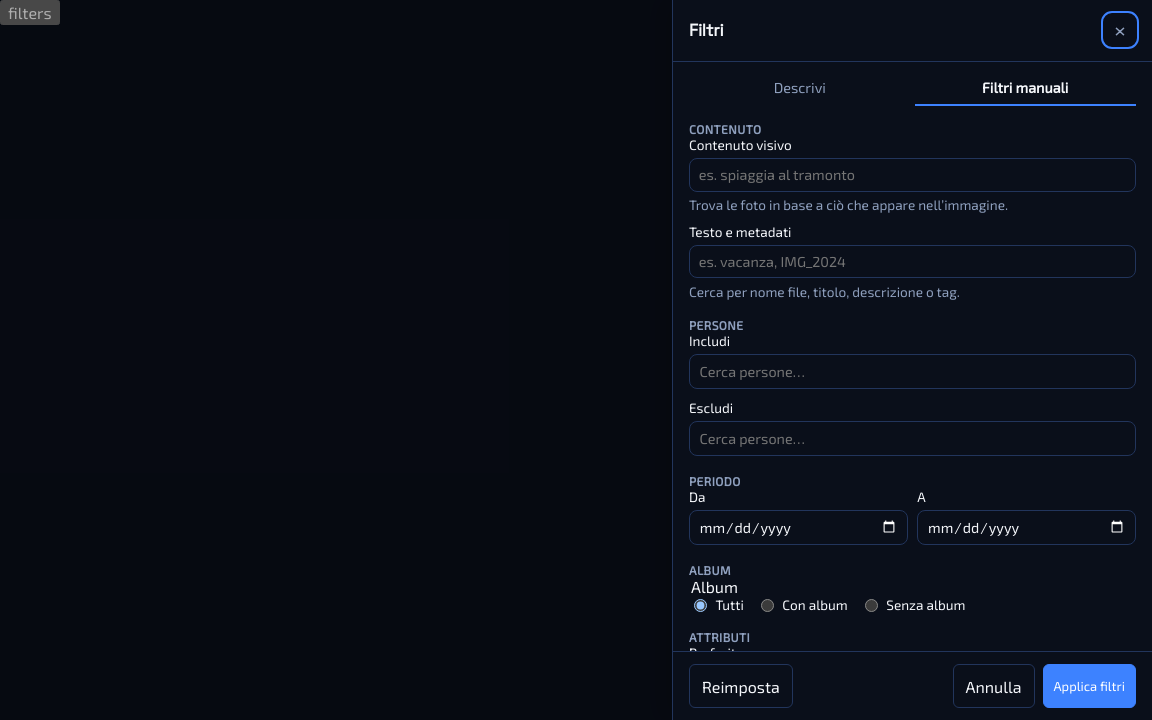
GalleryFilterSheet › the Describe parser populates the same draft fields
This screenshot has width=1152, height=720.
Expected: the dialog with test id "gallery-filter-sheet" is shown, [672, 0, 1151, 719]
Click the tab with test id "ws-tab-describe" at x=800, y=89, box [689, 71, 910, 106]
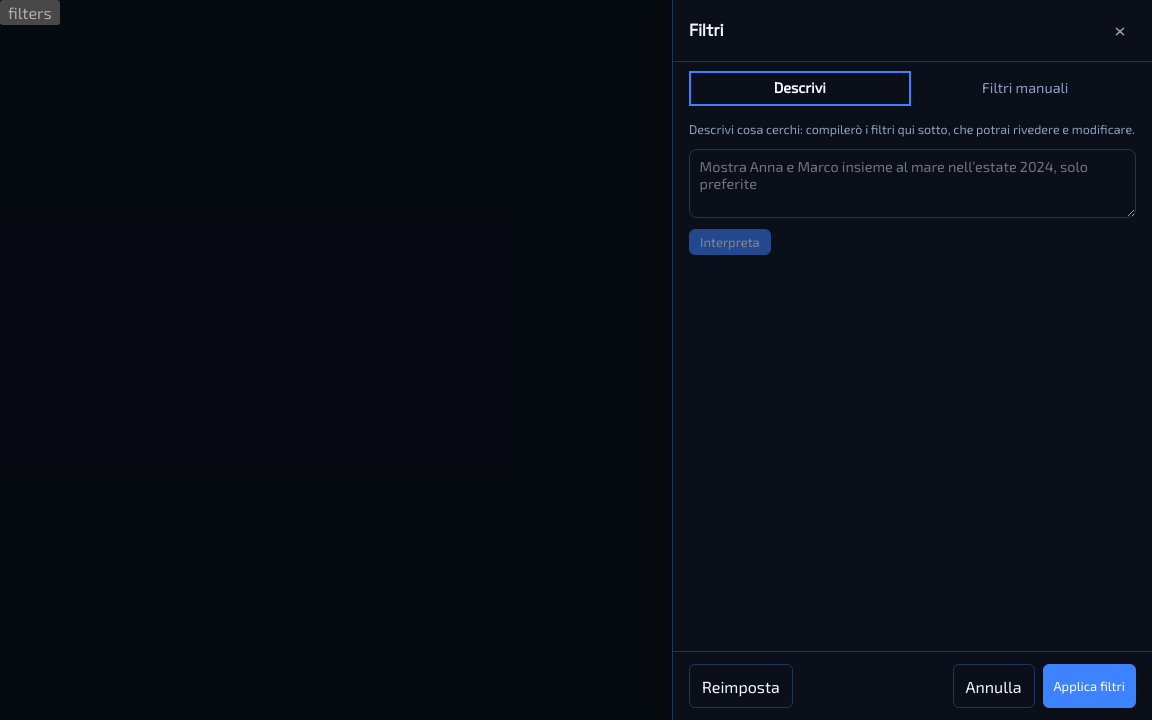
Type "favorites of the trip" into the text box with test id "ws-describe-input" at x=912, y=183, box [689, 149, 1136, 218]
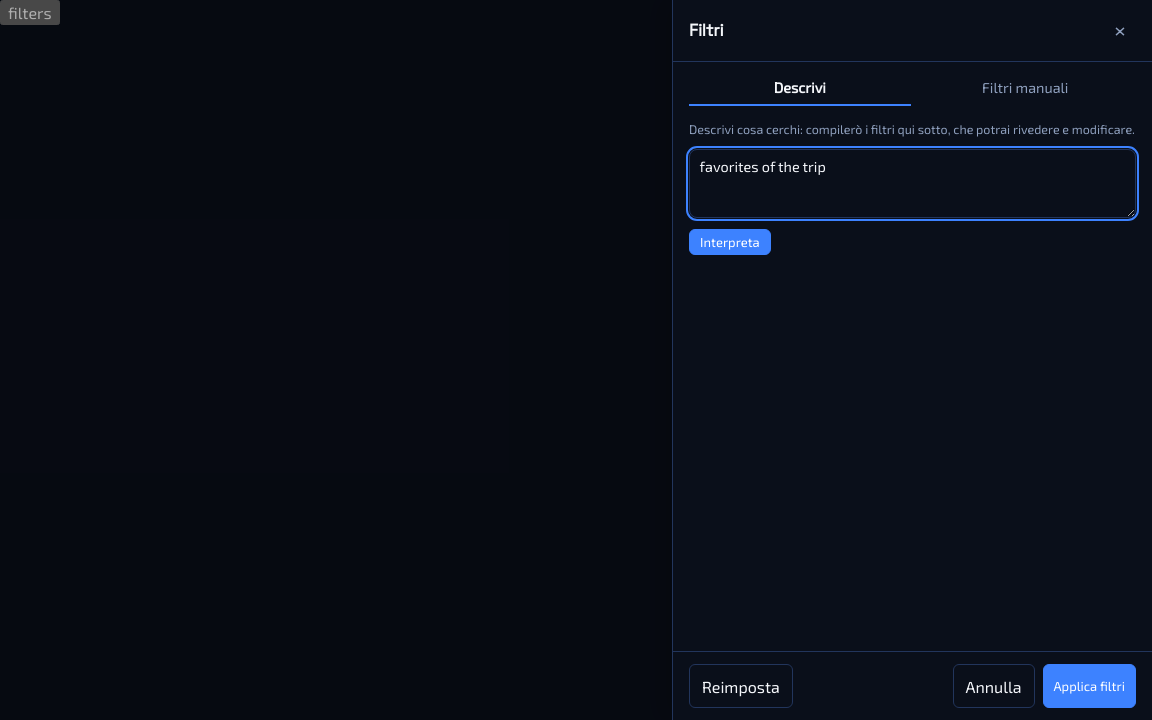
Click the button with test id "ws-describe-run" at x=730, y=242, box [689, 229, 771, 255]
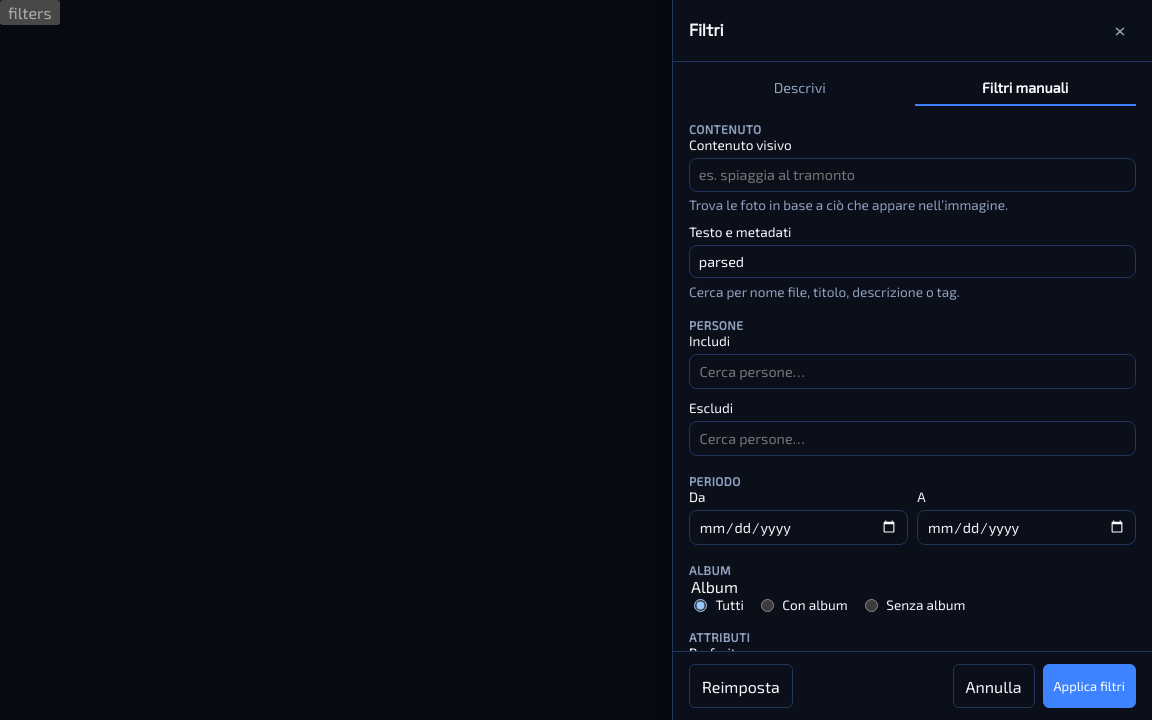
Result: the field with test id "ws-metadata-input" holds "parsed" at [689, 245, 1136, 278]
